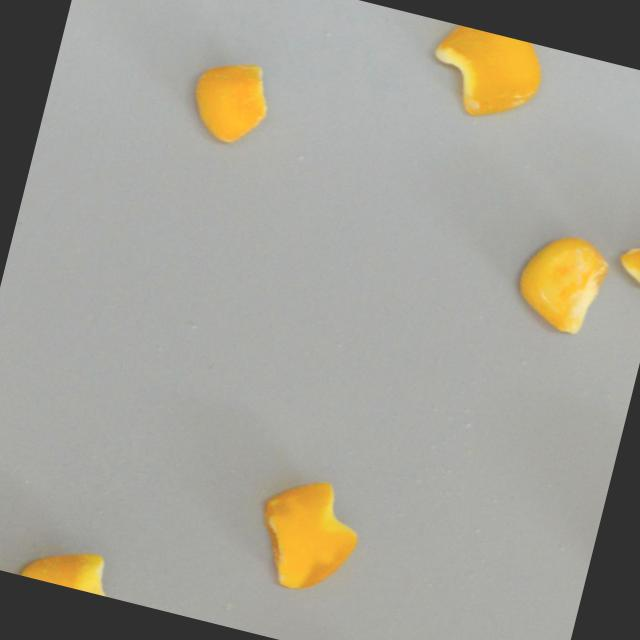dañado: (240, 464, 372, 605), (410, 18, 556, 133), (179, 48, 280, 152), (16, 531, 122, 598), (596, 209, 640, 341)
pelicula: (504, 220, 617, 345)
